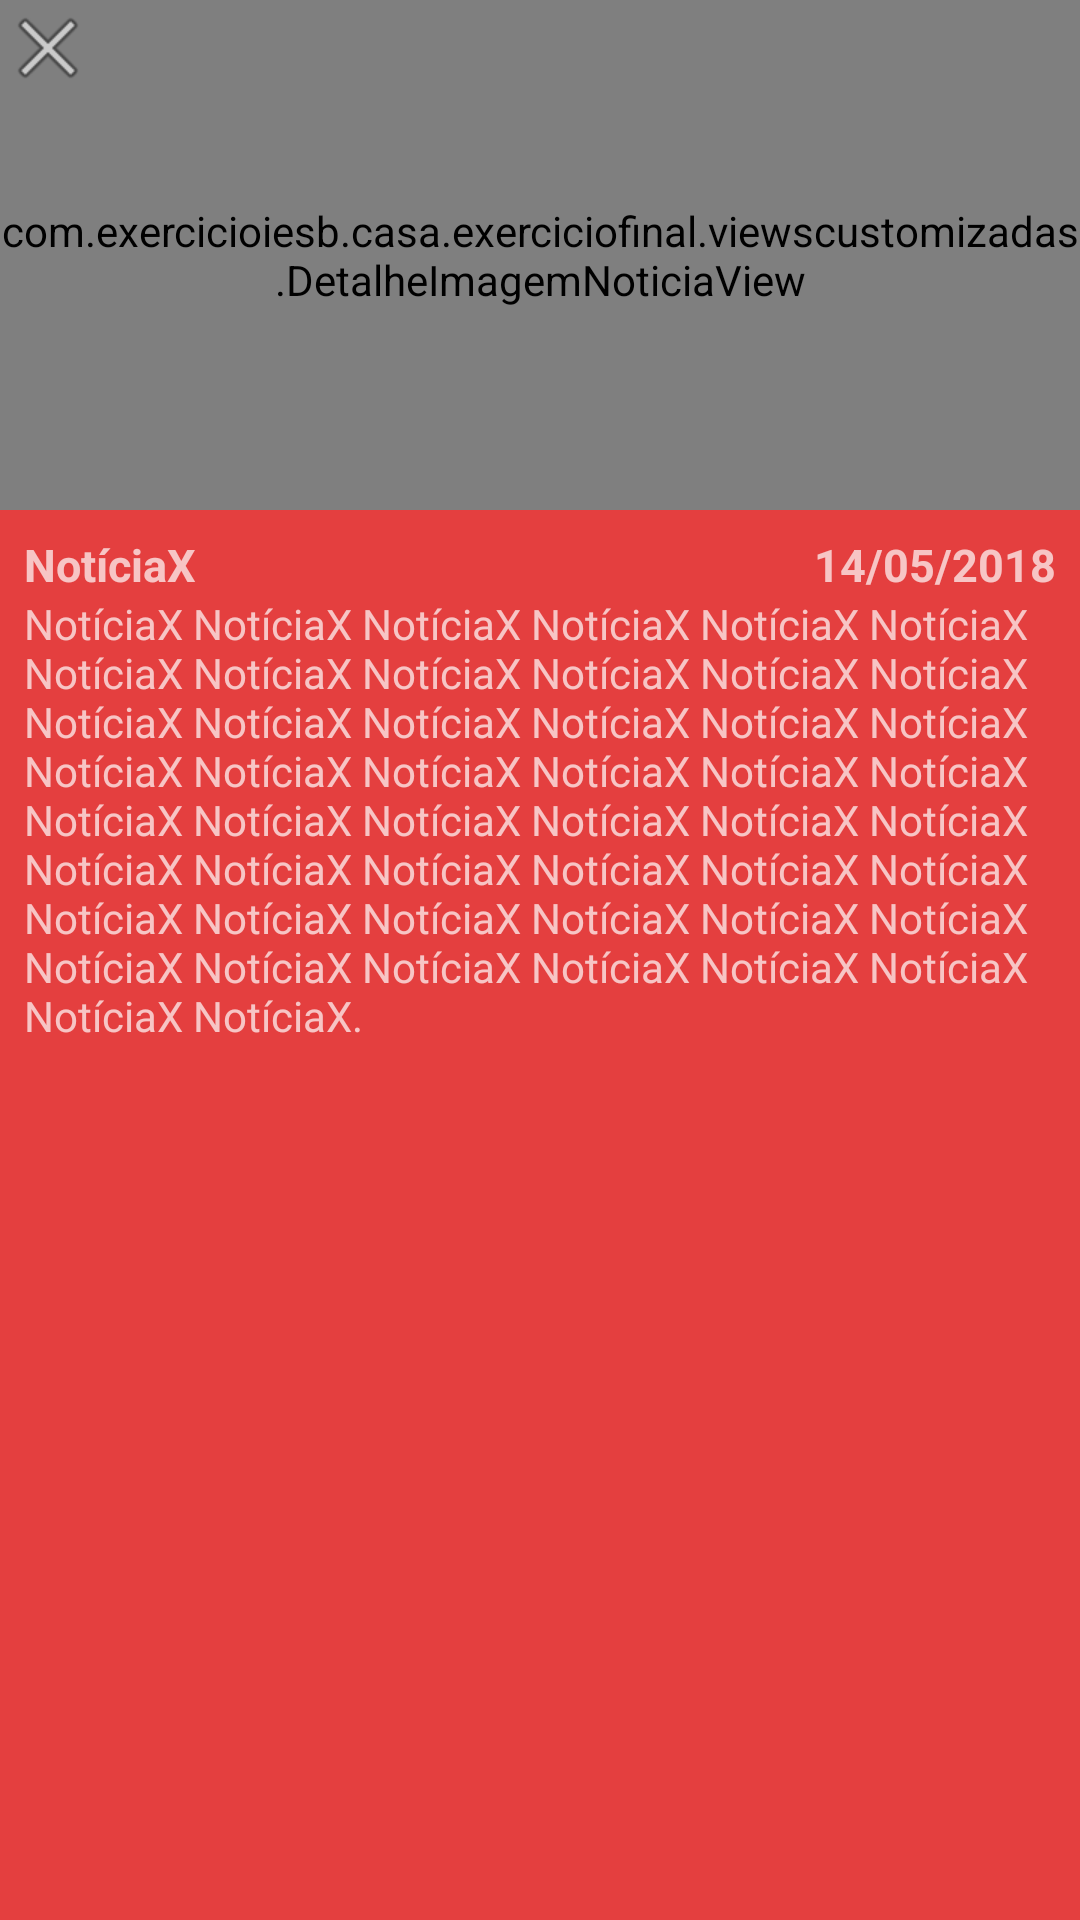

Where to tap for icons on this 1080w x 1920h app screen, as (x,y):
close clear cancel: (48,48)
